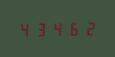four: (18, 20, 33, 37), (50, 20, 65, 36)
six: (66, 19, 81, 36)
three: (34, 20, 49, 37)
two: (82, 19, 97, 36)
